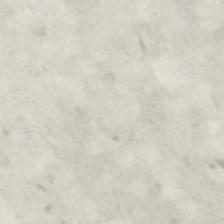Non_Crack: (20, 35, 200, 189)
